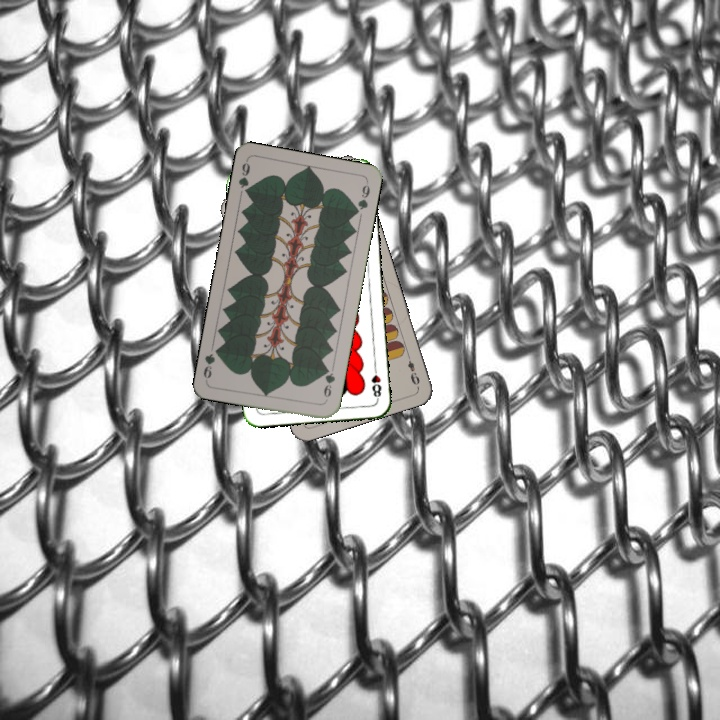E9: (403, 350, 422, 388)
G9: (319, 363, 338, 404), (234, 157, 253, 198)
H8: (368, 362, 384, 402)
